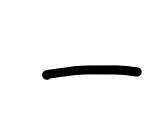minus: (42, 64, 143, 78)
